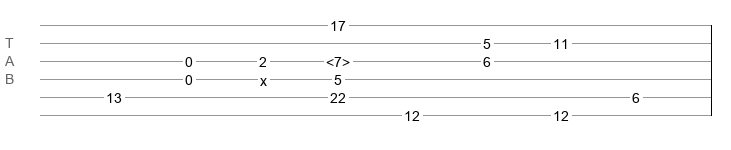0: (185, 72, 193, 82), (185, 54, 193, 64)
11: (553, 36, 569, 46)
12: (404, 108, 420, 118), (553, 108, 569, 118)
13: (106, 90, 122, 100)
17: (330, 18, 346, 28)
2: (259, 54, 267, 64)
22: (330, 90, 346, 100)
5: (334, 72, 342, 82), (483, 36, 491, 46)
6: (483, 54, 491, 64), (632, 90, 640, 100)
harmonic: (326, 54, 350, 64)
x: (260, 73, 267, 81)
